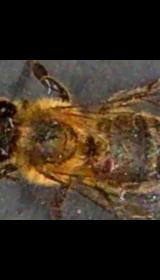varroa_mite: (98, 154, 118, 178)
